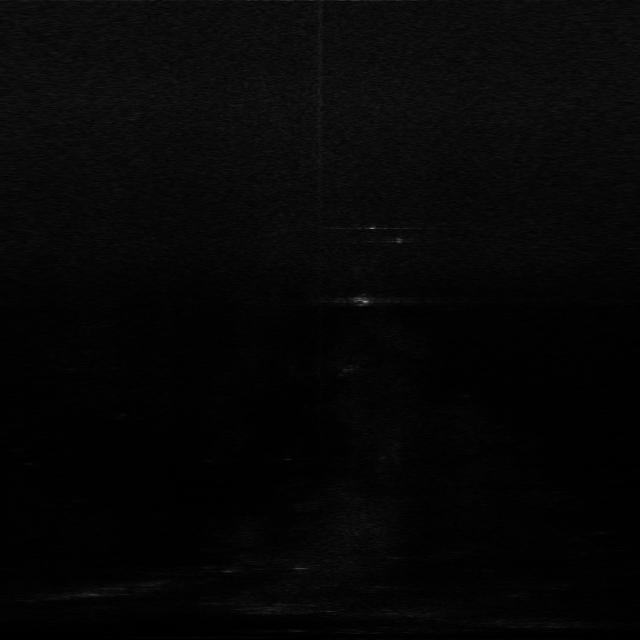rov: (342, 293, 377, 311)
